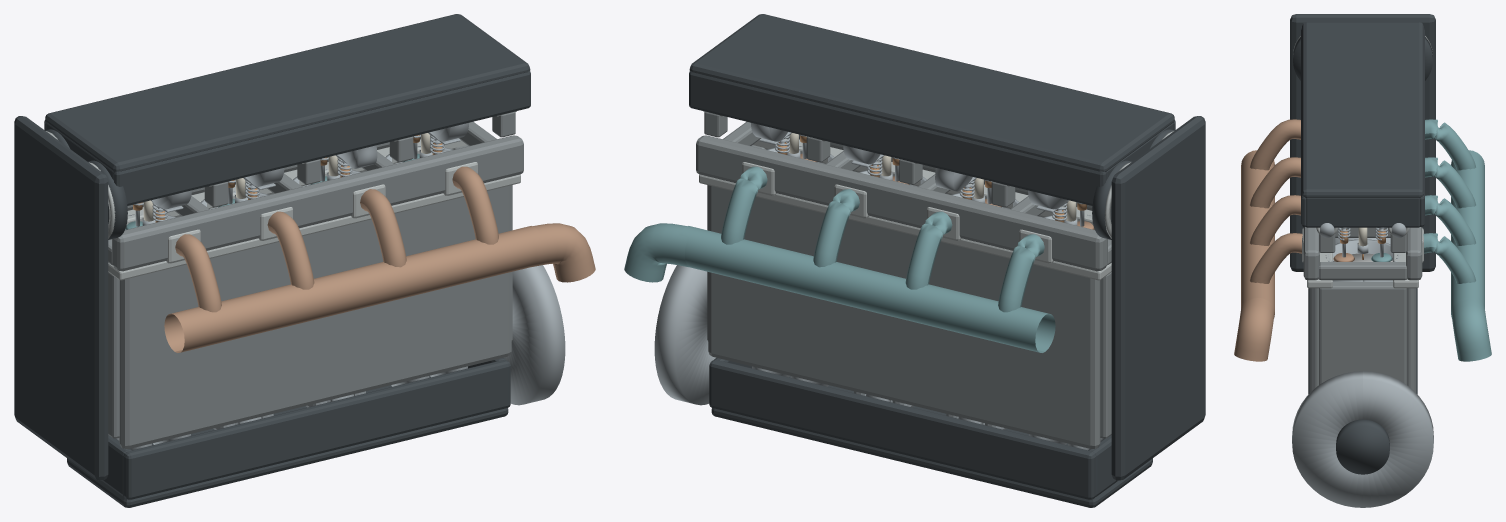
File: inline-four-engine-blockout.glb
The picture shows the model from 3 angles, left to right: view 1: azimuth 30°, elevation 25°; view 2: azimuth 150°, elevation 25°; view 3: azimuth 270°, elevation 25°; orthographic projection. The views are drawn at different scales.
Parts seen in each view (by area): view 1: block_front__engine_cast, cam_cover__engine_dark, timing_cover__engine_dark, exhaust_manifold__engine_exhaust, sump__engine_dark, head__engine_cast, flywheel_spin__engine_steel, block_front__engine_edge, cam_exhaust_spin__engine_steel, exhaust_manifold__engine_edge, block_rear__engine_edge, cam_exhaust_spin__engine_dark; view 2: block_rear__engine_cast, cam_cover__engine_dark, timing_cover__engine_dark, intake_manifold__engine_intake, sump__engine_dark, head__engine_cast, flywheel_spin__engine_steel, block_rear__engine_edge, cam_intake_spin__engine_steel, intake_manifold__engine_edge, block_front__engine_edge, cam_intake_spin__engine_dark; view 3: cam_cover__engine_dark, flywheel_spin__engine_steel, exhaust_manifold__engine_exhaust, intake_manifold__engine_intake, block_front__engine_cast, block_rear__engine_cast, timing_cover__engine_dark, head__engine_cast, flywheel_spin__engine_dark, sump__engine_dark, block_front__engine_edge, block_rear__engine_edge (+2 smaller).
Part boxes in pixels (bbox=[...]): block_front__engine_cast: bbox=[108, 185, 512, 449]; cam_cover__engine_dark: bbox=[44, 14, 530, 205]; timing_cover__engine_dark: bbox=[14, 116, 108, 480]; exhaust_manifold__engine_exhaust: bbox=[164, 166, 595, 352]; sump__engine_dark: bbox=[67, 357, 510, 507]; head__engine_cast: bbox=[108, 111, 523, 271]; flywheel_spin__engine_steel: bbox=[504, 265, 565, 405]; block_front__engine_edge: bbox=[108, 174, 520, 280]; cam_exhaust_spin__engine_steel: bbox=[152, 123, 468, 209]; exhaust_manifold__engine_edge: bbox=[166, 162, 477, 263]; block_rear__engine_edge: bbox=[126, 139, 466, 225]; cam_exhaust_spin__engine_dark: bbox=[88, 160, 127, 239]; block_rear__engine_cast: bbox=[707, 185, 1111, 449]; cam_cover__engine_dark: bbox=[689, 14, 1175, 205]; timing_cover__engine_dark: bbox=[1111, 116, 1205, 480]; intake_manifold__engine_intake: bbox=[624, 166, 1055, 352]; sump__engine_dark: bbox=[709, 357, 1152, 507]; head__engine_cast: bbox=[696, 111, 1111, 271]; flywheel_spin__engine_steel: bbox=[654, 265, 715, 405]; block_rear__engine_edge: bbox=[699, 174, 1111, 280]; cam_intake_spin__engine_steel: bbox=[751, 123, 1067, 209]; intake_manifold__engine_edge: bbox=[742, 162, 1053, 263]; block_front__engine_edge: bbox=[753, 138, 1093, 225]; cam_intake_spin__engine_dark: bbox=[1092, 160, 1131, 239]; cam_cover__engine_dark: bbox=[1301, 22, 1424, 227]; flywheel_spin__engine_steel: bbox=[1292, 371, 1433, 507]; exhaust_manifold__engine_exhaust: bbox=[1234, 119, 1302, 361]; intake_manifold__engine_intake: bbox=[1423, 119, 1491, 361]; block_front__engine_cast: bbox=[1310, 281, 1362, 392]; block_rear__engine_cast: bbox=[1363, 281, 1415, 392]; timing_cover__engine_dark: bbox=[1290, 14, 1435, 271]; head__engine_cast: bbox=[1303, 227, 1422, 280]; flywheel_spin__engine_dark: bbox=[1336, 419, 1389, 474]; sump__engine_dark: bbox=[1308, 288, 1417, 394]; block_front__engine_edge: bbox=[1307, 252, 1332, 288]; block_rear__engine_edge: bbox=[1393, 252, 1418, 288].
Size of the model in its own units: 0.524 by 0.376 by 0.2875.
